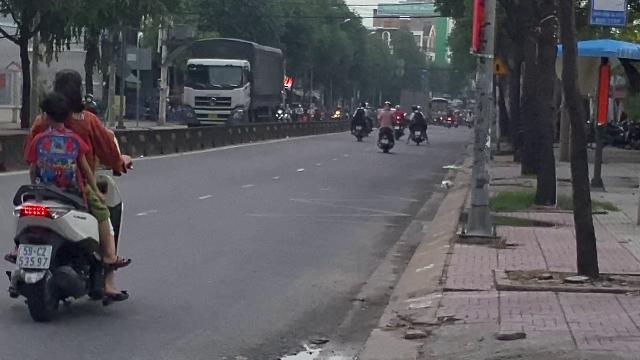licenseplate: (17, 244, 51, 268)
motorcyclist: (1, 62, 134, 322)
nohelmet: (50, 68, 84, 100), (40, 92, 72, 126)
